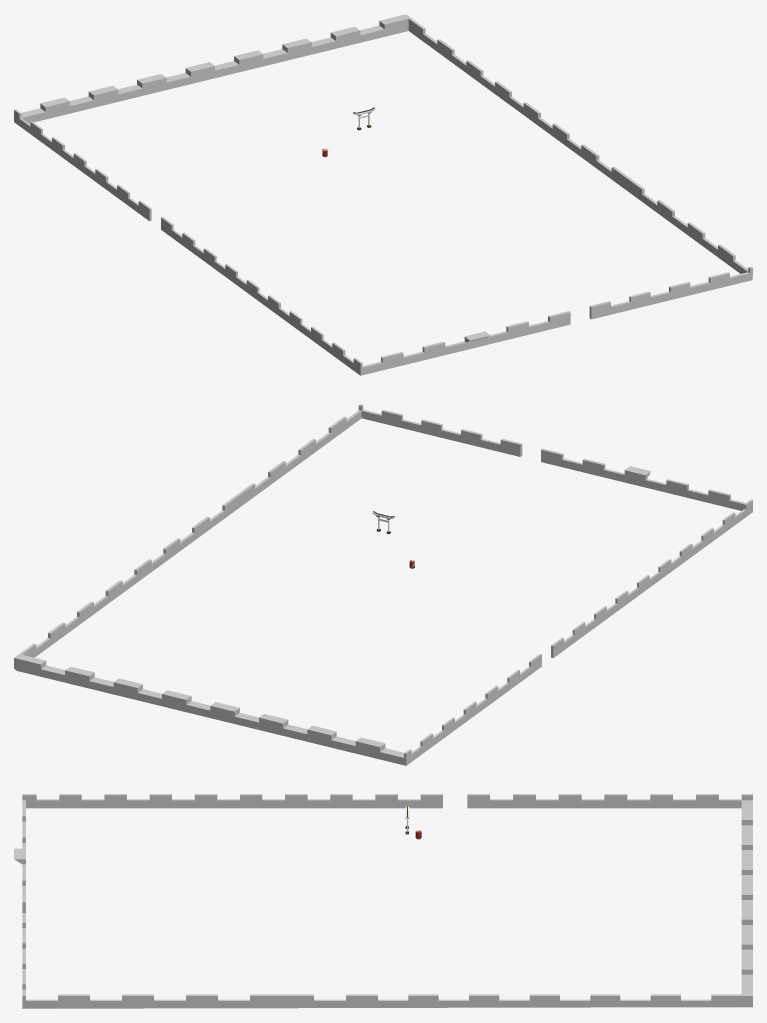
The model's file is wall_arc_lantern.fbx.
3 renders of one model, top to bottom at view 1: azimuth 30°, elevation 25°; view 2: azimuth 150°, elevation 25°; view 3: azimuth 270°, elevation 25°, orthographic. The views are drawn at different scales.
Visible parts, largest first — view 1: Wall; view 2: Wall; view 3: Wall.
Part boxes in pixels (bbox=[...]): Wall: bbox=[14, 14, 752, 375]; Wall: bbox=[14, 404, 752, 765]; Wall: bbox=[14, 794, 752, 1008].
Bounding box in the file's own units: 4287 × 906 × 6631.
